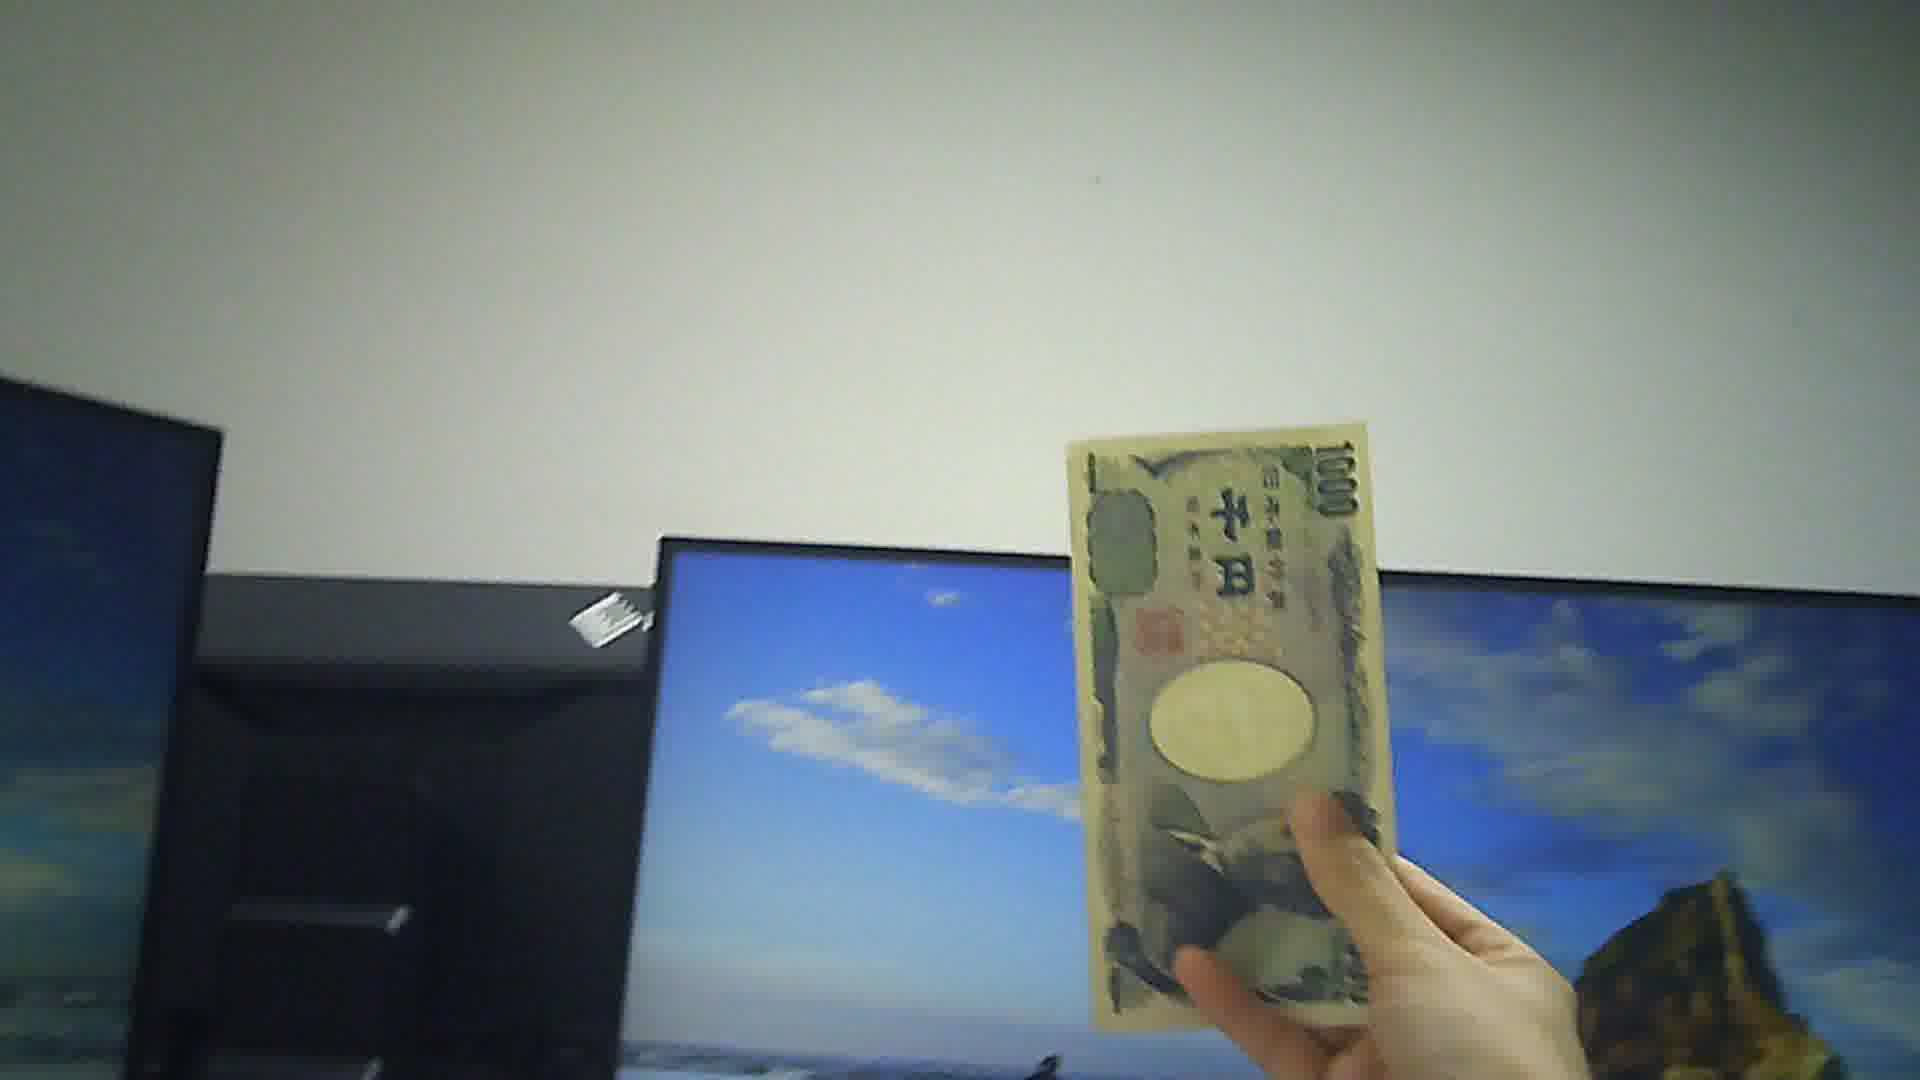1,000 Yen: (1055, 414, 1428, 1036)
